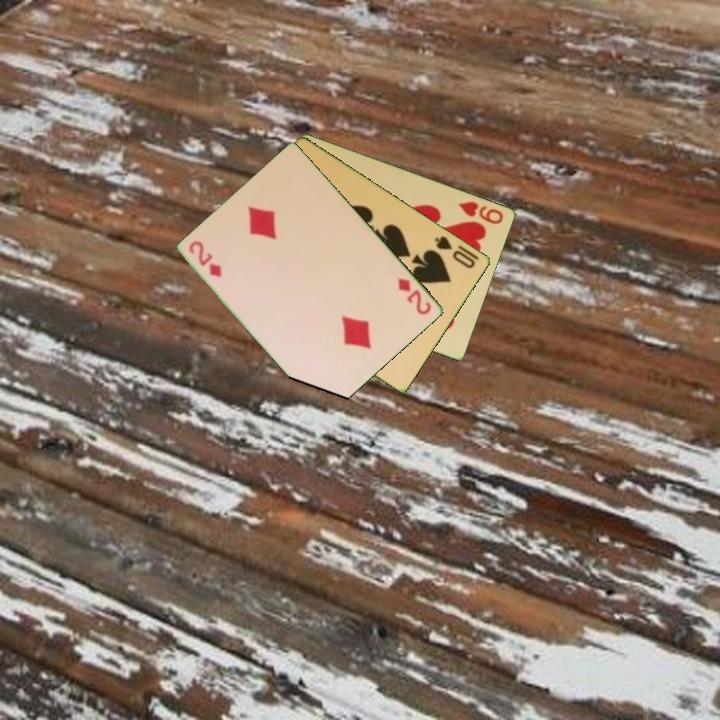10s: (432, 232, 479, 271)
2d: (394, 274, 435, 318), (186, 237, 225, 281)
9h: (456, 197, 507, 227)
